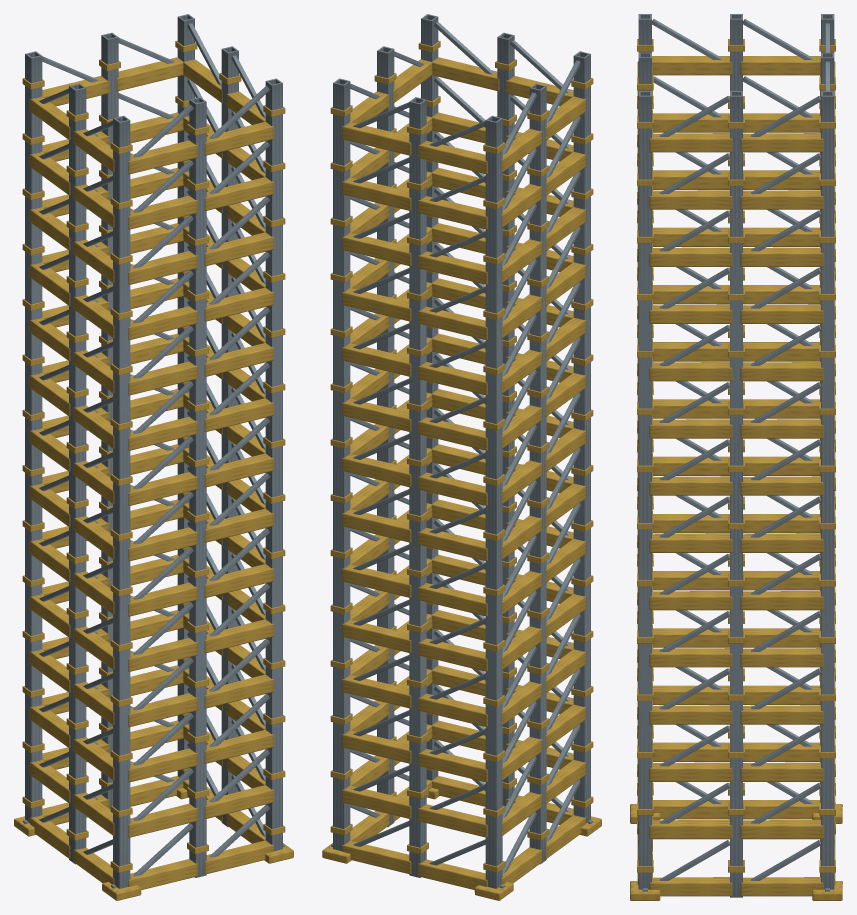
3 renders of one model, left to right at view 1: azimuth 30°, elevation 25°; view 2: azimuth 150°, elevation 25°; view 3: azimuth 270°, elevation 25°, orthographic. The views are drawn at different scales.
Visible parts, largest first — view 1: Tier 0 side 0 post 0, Tier 0 side 1 post 0, Tier 0 side 0 post 1, Tier 0 side 3 post 0, Tier 0 side 3 post 1, Tier 0 side 1 post 1, Tier 0 side 2 post 1, Tier 0 side 2 post 0, Tier 0 bay 0-13-1 service deck, Tier 0 bay 0-2-1 service deck, Tier 0 bay 0-3-1 service deck, Tier 0 bay 0-4-0 service deck (+82 smaller); view 2: Tier 0 side 3 post 0, Tier 0 side 2 post 0, Tier 0 side 2 post 1, Tier 0 side 0 post 0, Tier 0 side 3 post 1, Tier 0 side 1 post 1, Tier 0 side 0 post 1, Tier 0 side 1 post 0, Tier 0 bay 2-2-0 service deck, Tier 0 bay 2-13-0 service deck, Tier 0 bay 2-13-1 service deck, Tier 0 bay 2-4-0 service deck (+82 smaller); view 3: Tier 0 side 1 post 0, Tier 0 side 2 post 0, Tier 0 side 1 post 1, Tier 0 bay 1-5-0 service deck, Tier 0 bay 1-5-1 service deck, Tier 0 bay 1-1-1 service deck, Tier 0 bay 1-1-0 service deck, Tier 0 bay 1-9-1 service deck, Tier 0 bay 1-13-0 service deck, Tier 0 bay 1-13-1 service deck, Tier 0 bay 1-9-0 service deck, Tier 0 bay 1-4-0 service deck (+82 smaller).
Boxes of the visible parts, bbox=[...] form: Tier 0 side 0 post 0: bbox=[113, 115, 130, 888]; Tier 0 side 1 post 0: bbox=[265, 78, 282, 851]; Tier 0 side 0 post 1: bbox=[189, 97, 206, 877]; Tier 0 side 3 post 0: bbox=[25, 51, 42, 822]; Tier 0 side 3 post 1: bbox=[69, 83, 86, 864]; Tier 0 side 1 post 1: bbox=[221, 46, 238, 826]; Tier 0 side 2 post 1: bbox=[101, 32, 118, 809]; Tier 0 side 2 post 0: bbox=[177, 14, 194, 779]; Tier 0 bay 0-13-1 service deck: bbox=[204, 121, 273, 155]; Tier 0 bay 0-2-1 service deck: bbox=[204, 729, 273, 763]; Tier 0 bay 0-3-1 service deck: bbox=[204, 674, 273, 708]; Tier 0 bay 0-4-0 service deck: bbox=[128, 638, 197, 671]; Tier 0 side 3 post 0: bbox=[485, 115, 502, 888]; Tier 0 side 2 post 0: bbox=[333, 78, 350, 851]; Tier 0 side 2 post 1: bbox=[409, 97, 426, 877]; Tier 0 side 0 post 0: bbox=[573, 51, 590, 822]; Tier 0 side 3 post 1: bbox=[529, 83, 546, 864]; Tier 0 side 1 post 1: bbox=[377, 46, 394, 827]; Tier 0 side 0 post 1: bbox=[497, 32, 514, 806]; Tier 0 side 1 post 0: bbox=[421, 14, 438, 780]; Tier 0 bay 2-2-0 service deck: bbox=[342, 730, 411, 763]; Tier 0 bay 2-13-0 service deck: bbox=[342, 122, 411, 155]; Tier 0 bay 2-13-1 service deck: bbox=[418, 140, 487, 174]; Tier 0 bay 2-4-0 service deck: bbox=[342, 620, 411, 653]; Tier 0 side 1 post 0: bbox=[638, 91, 651, 889]; Tier 0 side 2 post 0: bbox=[821, 91, 834, 889]; Tier 0 side 1 post 1: bbox=[730, 91, 742, 897]; Tier 0 bay 1-5-0 service deck: bbox=[649, 591, 732, 610]; Tier 0 bay 1-5-1 service deck: bbox=[740, 591, 823, 610]; Tier 0 bay 1-1-1 service deck: bbox=[740, 819, 823, 839]; Tier 0 bay 1-1-0 service deck: bbox=[649, 819, 732, 839]; Tier 0 bay 1-9-1 service deck: bbox=[740, 362, 823, 381]; Tier 0 bay 1-13-0 service deck: bbox=[649, 133, 732, 152]; Tier 0 bay 1-13-1 service deck: bbox=[740, 133, 823, 152]; Tier 0 bay 1-9-0 service deck: bbox=[649, 362, 732, 381]; Tier 0 bay 1-4-0 service deck: bbox=[649, 648, 732, 667].
Bounding box in the file's own units: 1.05 × 4.36 × 1.05.
2 materials, 2 textured.
